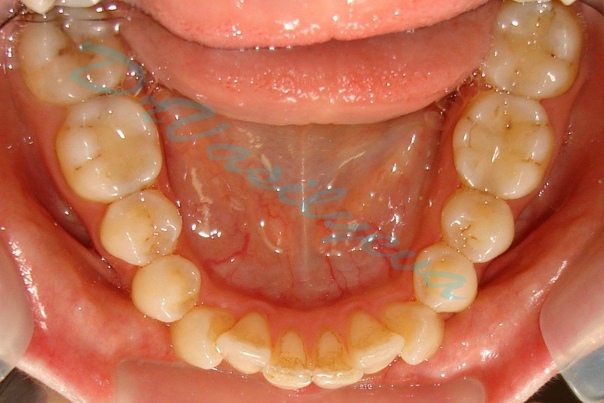LL1BC_decay: (415, 245, 477, 310)
LL1M_decay: (453, 98, 548, 194)
LL2BC_decay: (441, 190, 513, 260)
LL2M_decay: (490, 5, 578, 94)
LLCI_decay: (313, 331, 360, 385)
LLC_healthy: (384, 303, 442, 364)
LLLI_healthy: (351, 314, 402, 369)
LR1BC_healthy: (133, 256, 200, 319)
LR1M_decay: (57, 101, 160, 198)
LR2BC_decay: (101, 191, 182, 263)
LR2M_decay: (19, 13, 124, 101)
LRCI_decay: (271, 330, 312, 388)
LRC_healthy: (173, 308, 225, 367)
LRLI_healthy: (222, 314, 273, 370)
